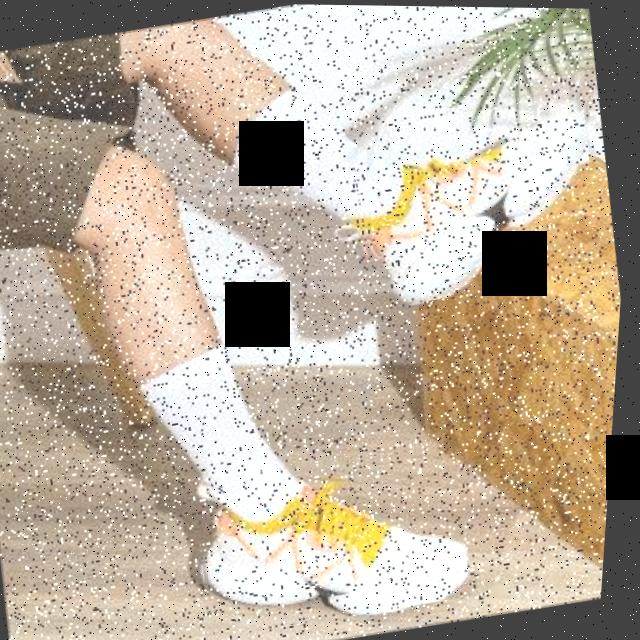shoe: (186, 433, 487, 640), (340, 94, 614, 311)
